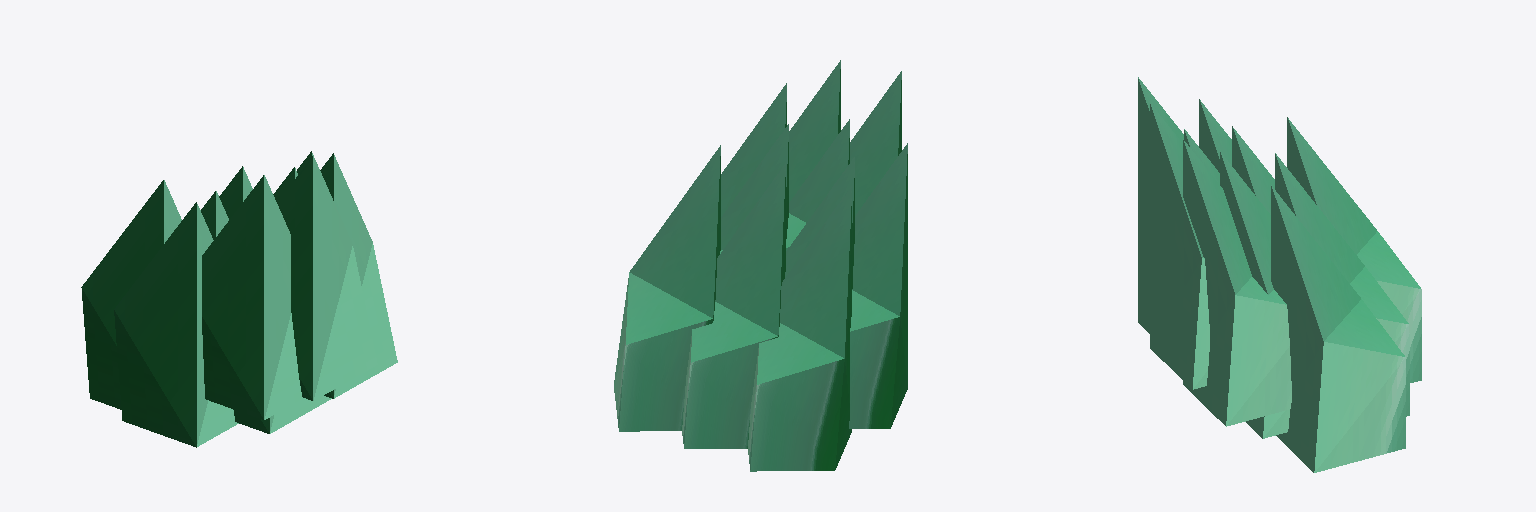
The picture shows the model from 3 angles: view 1: azimuth 30°, elevation 25°; view 2: azimuth 150°, elevation 25°; view 3: azimuth 270°, elevation 25°; orthographic projection.
Visible parts, largest first — view 1: Cilindro_003; view 2: Cilindro_003; view 3: Cilindro_003.
Part boxes in pixels (x1,y1,x2,y2): Cilindro_003: (81,151,397,447); Cilindro_003: (614,60,907,471); Cilindro_003: (1138,77,1421,472).
Size of the model in its own units: 4.26 by 4.46 by 3.83.
Materials: 1 (1 with a texture image).